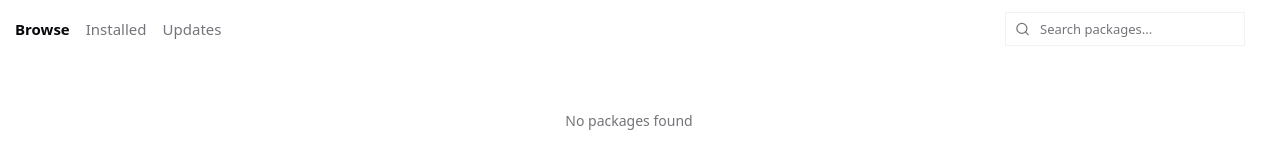
InstalledList › shows empty state when no packages are installed
This screenshot has width=1262, height=160.
Click the button with class "store-header-tab" showing "Installed" at x=116, y=29, box x1=84 y1=14 x2=149 y2=44
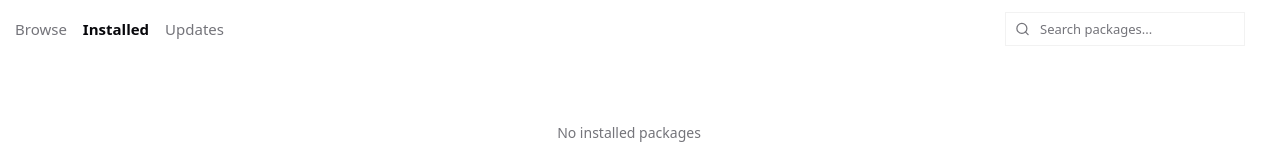
Expected: the text "No installed packages" is shown, x1=557 y1=123 x2=701 y2=142
